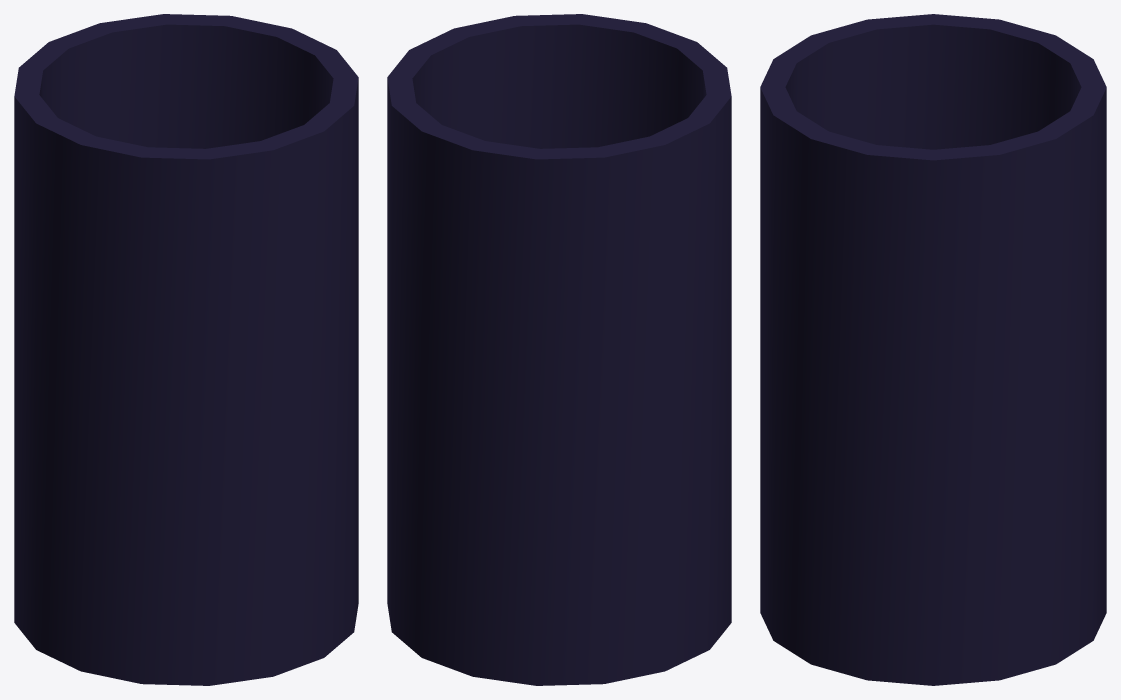
File: Small Trash Can.fbx
The picture shows the model from 3 angles, left to right: view 1: azimuth 30°, elevation 25°; view 2: azimuth 150°, elevation 25°; view 3: azimuth 270°, elevation 25°; orthographic projection.
Visible parts, largest first — view 1: Cylinder; view 2: Cylinder; view 3: Cylinder.
Part boxes in pixels (x1,y1,x2,y2): Cylinder: (14, 14, 358, 685); Cylinder: (387, 14, 731, 685); Cylinder: (760, 14, 1106, 685).
Bounding box in the file's own units: 100 × 167 × 100.
